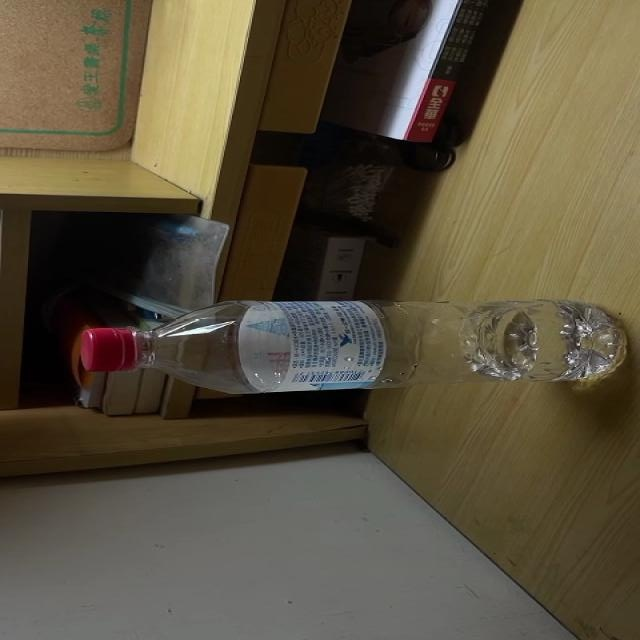Water: (79, 299, 630, 397)
